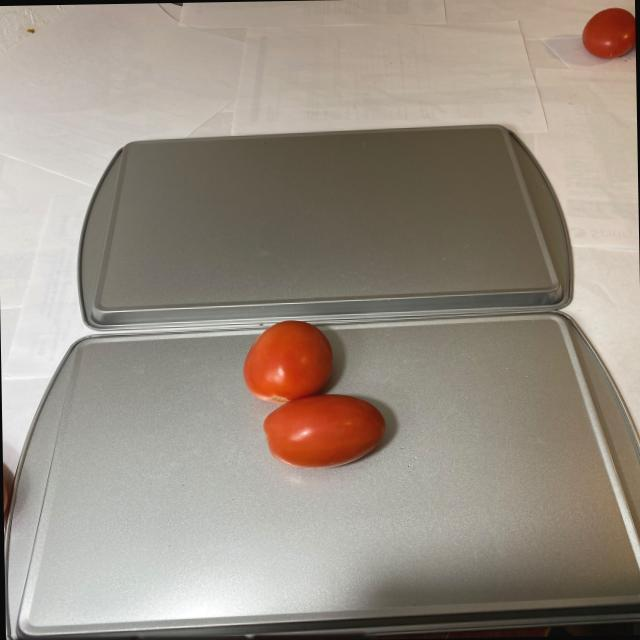tomato: (238, 316, 386, 469), (576, 6, 636, 66)
